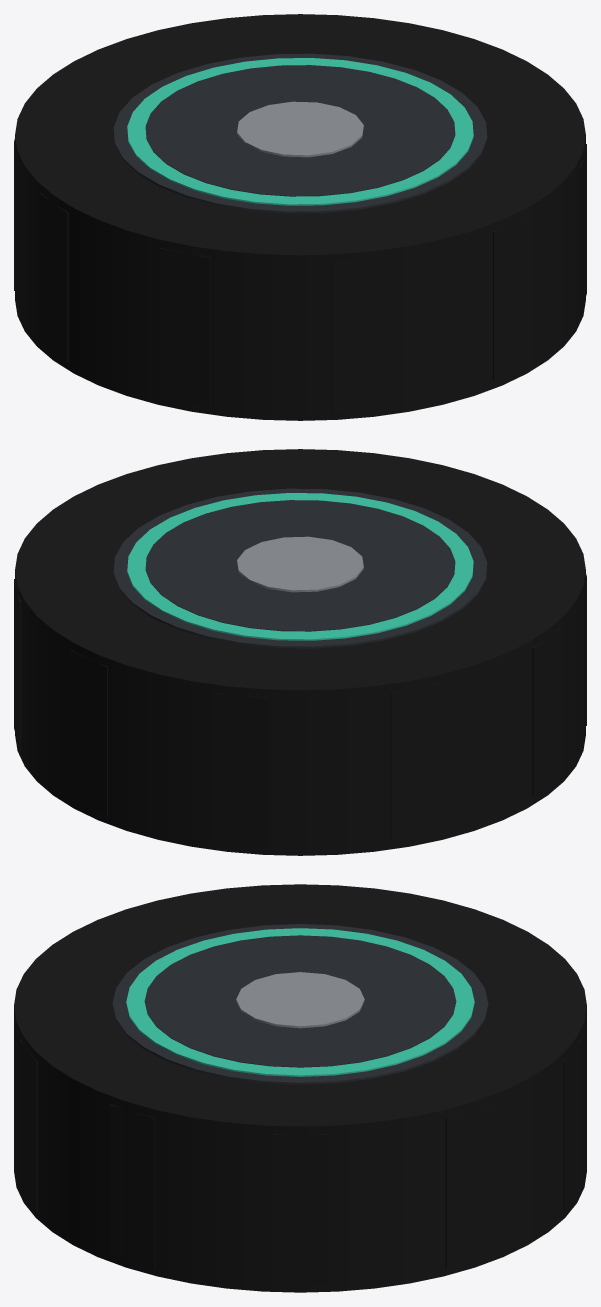
Rendered from wheel_rl.obj.
3 views of the same model, one above another, from view 1: azimuth 30°, elevation 25°; view 2: azimuth 150°, elevation 25°; view 3: azimuth 270°, elevation 25° (orthographic).
Parts seen in each view (by area): view 1: wheel_rl; view 2: wheel_rl; view 3: wheel_rl.
Boxes of the visible parts, x1=… form: wheel_rl: x1=14, y1=14, x2=586, y2=420; wheel_rl: x1=14, y1=449, x2=586, y2=855; wheel_rl: x1=14, y1=884, x2=586, y2=1292.
Bounding box in the file's own units: 0.25 × 0.086 × 0.25.
